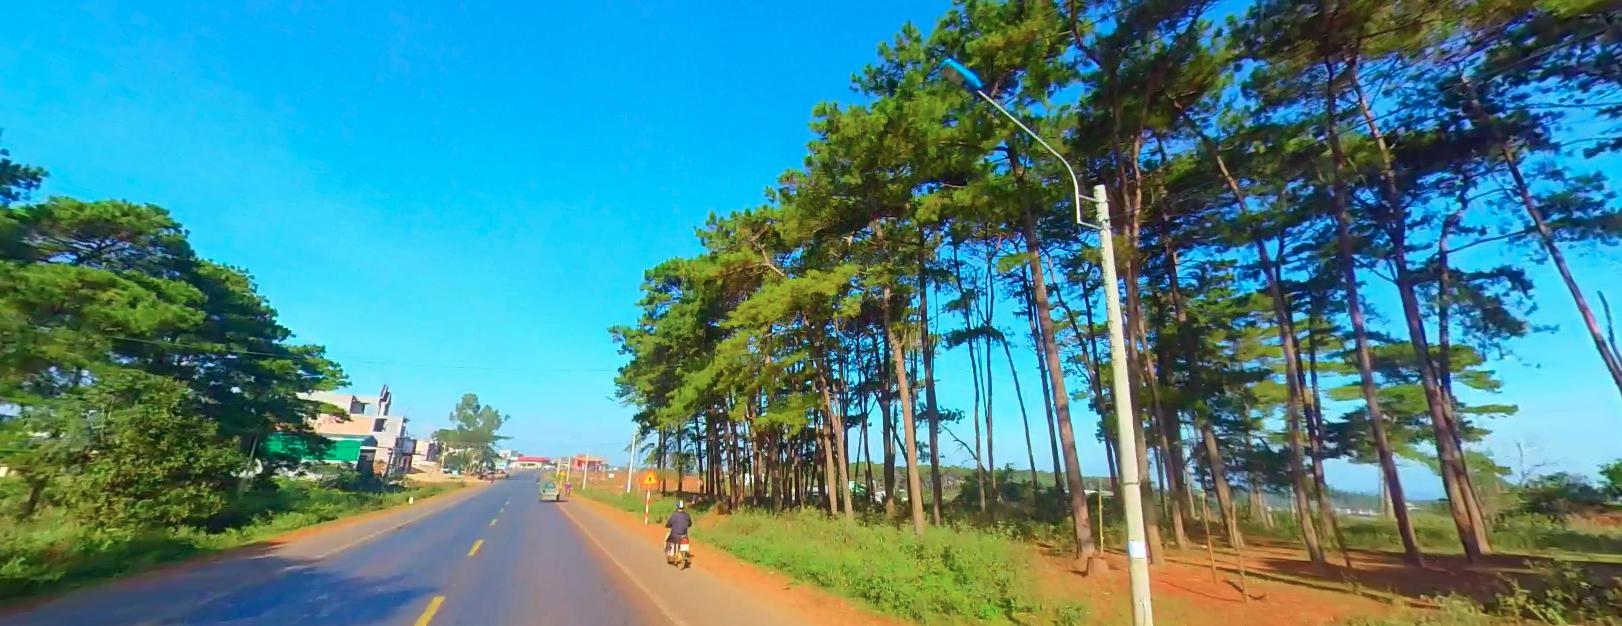Nguy hiem: (640, 467, 659, 483), (559, 467, 566, 474)
